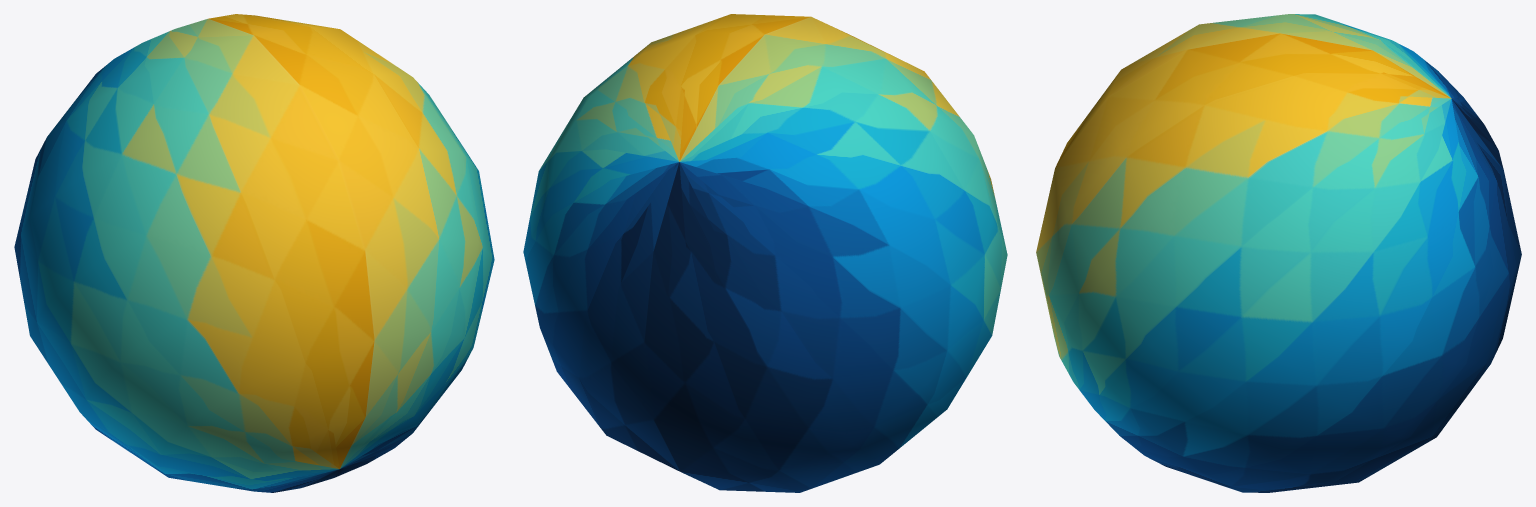
3 renders of one model, left to right at view 1: azimuth 30°, elevation 25°; view 2: azimuth 150°, elevation 25°; view 3: azimuth 270°, elevation 25°, orthographic.
Parts seen in each view (by area): view 1: Sphere001; view 2: Sphere001; view 3: Sphere001.
Part boxes in pixels (x1=…): Sphere001: x1=14, y1=14, x2=494, y2=492; Sphere001: x1=523, y1=14, x2=1007, y2=492; Sphere001: x1=1036, y1=14, x2=1521, y2=492.
Size of the model in its own units: 6069 by 6069 by 6069.
1 material, 1 textured.
